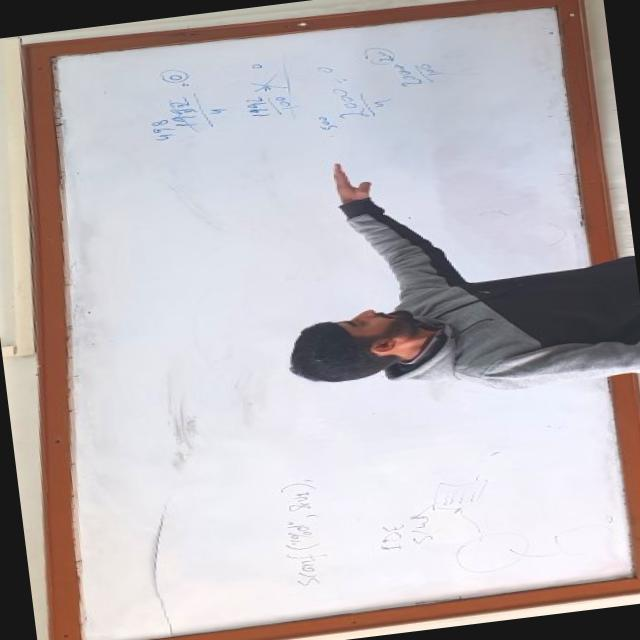Instructor: (244, 234, 640, 420)
White-board: (38, 0, 640, 640)
